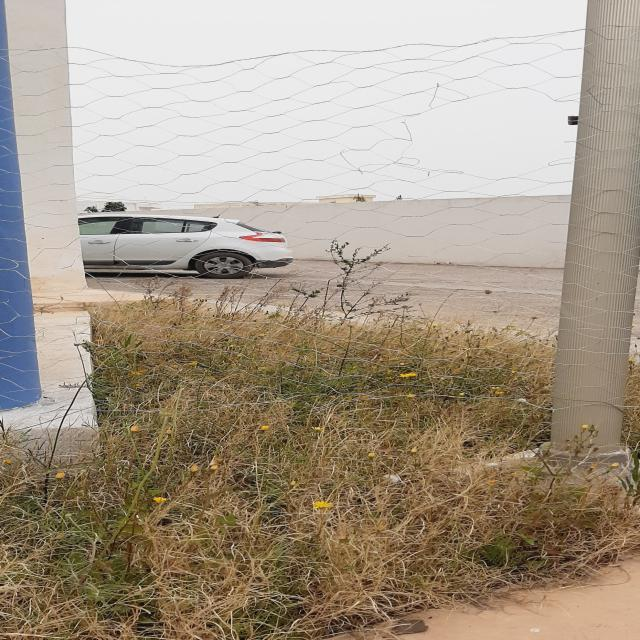fence line: (363, 90, 585, 187), (92, 408, 560, 447)
